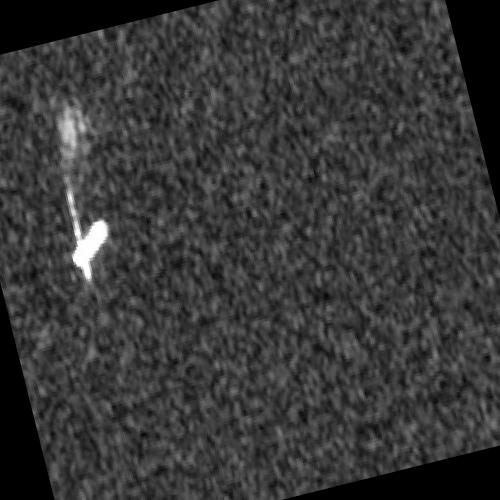ship: (71, 217, 110, 270)
